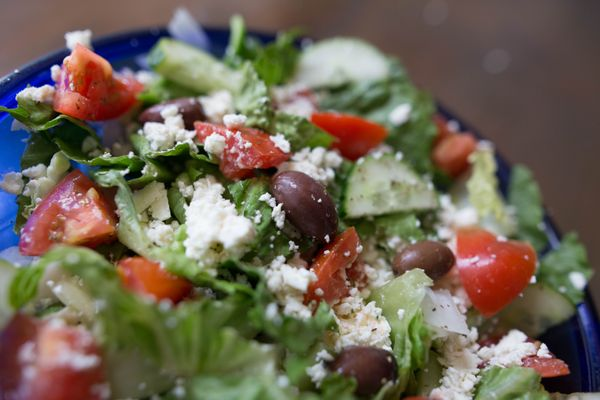curry: (3, 244, 283, 393)
